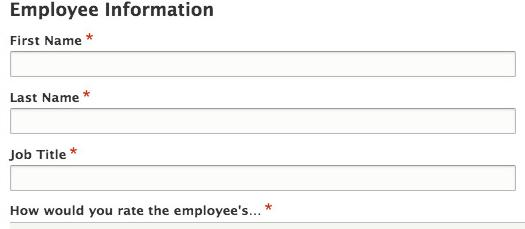field: (9, 49, 517, 81), (8, 107, 517, 137), (8, 162, 519, 191)
field_with_label: (6, 34, 520, 83), (4, 92, 520, 139), (4, 147, 523, 193)
